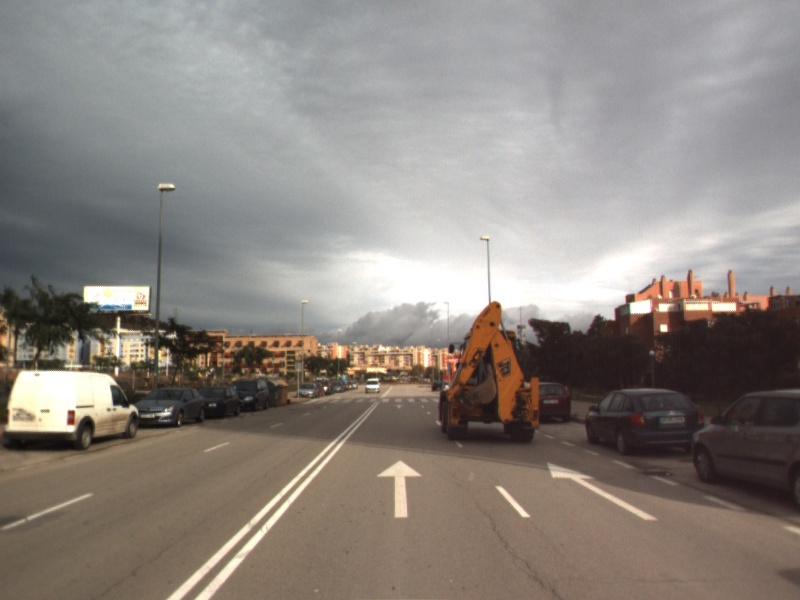STRAIGHT: (545, 460, 660, 523), (375, 458, 424, 519)
